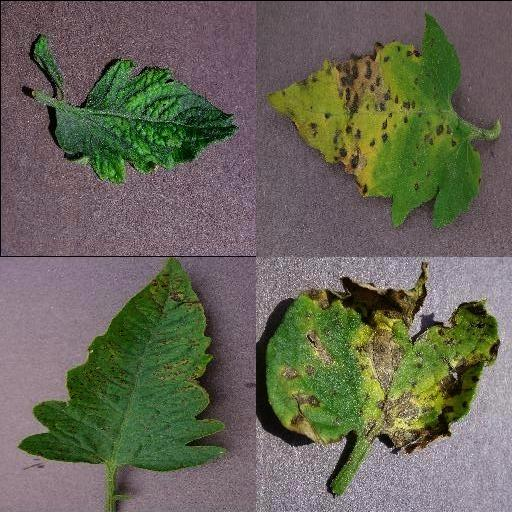Mosaic Virus: (54, 55, 240, 189), (29, 29, 65, 93)
Septoria: (265, 9, 483, 230), (19, 257, 230, 471), (267, 261, 500, 453)
